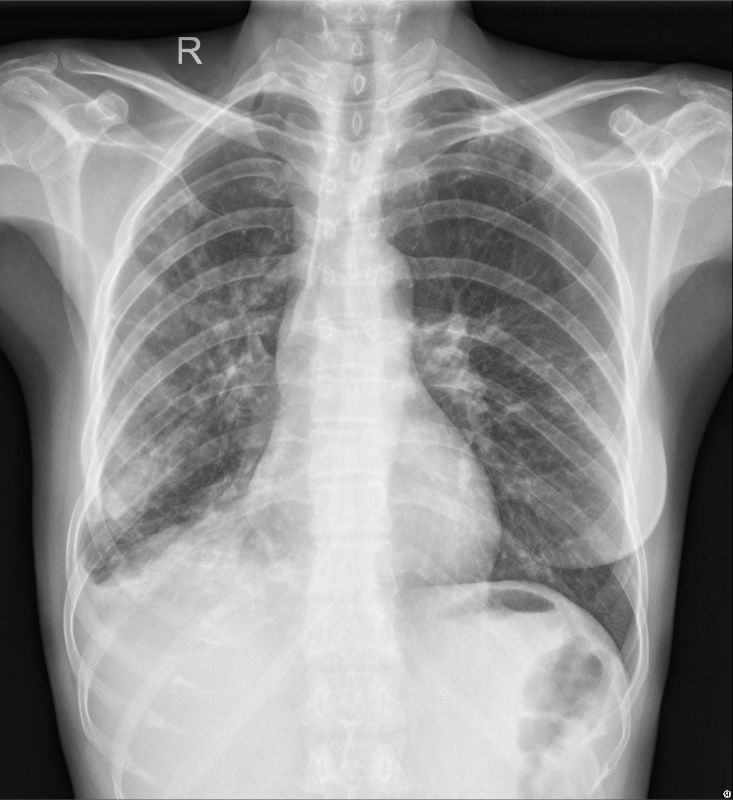Tuberculosis (TB): (138, 179, 209, 310)
